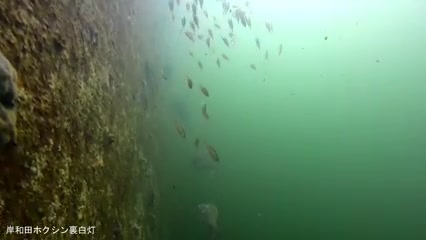smallfish: (201, 138, 222, 167), (171, 116, 189, 142), (182, 72, 198, 92)
